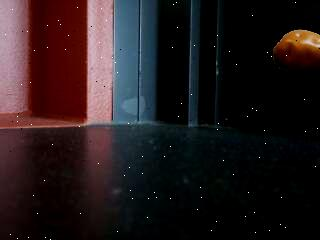Potato: (273, 28, 320, 76)
